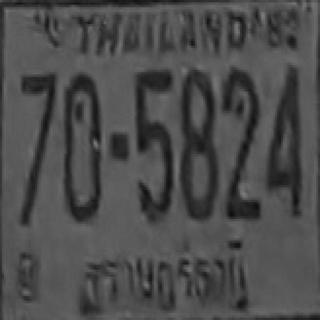N00: (62, 72, 101, 221)
N04: (264, 65, 300, 214), (264, 64, 300, 184)
N05: (133, 67, 172, 154)
N07: (19, 71, 56, 158)
N08: (180, 67, 217, 217)
P67: (77, 234, 253, 309)
